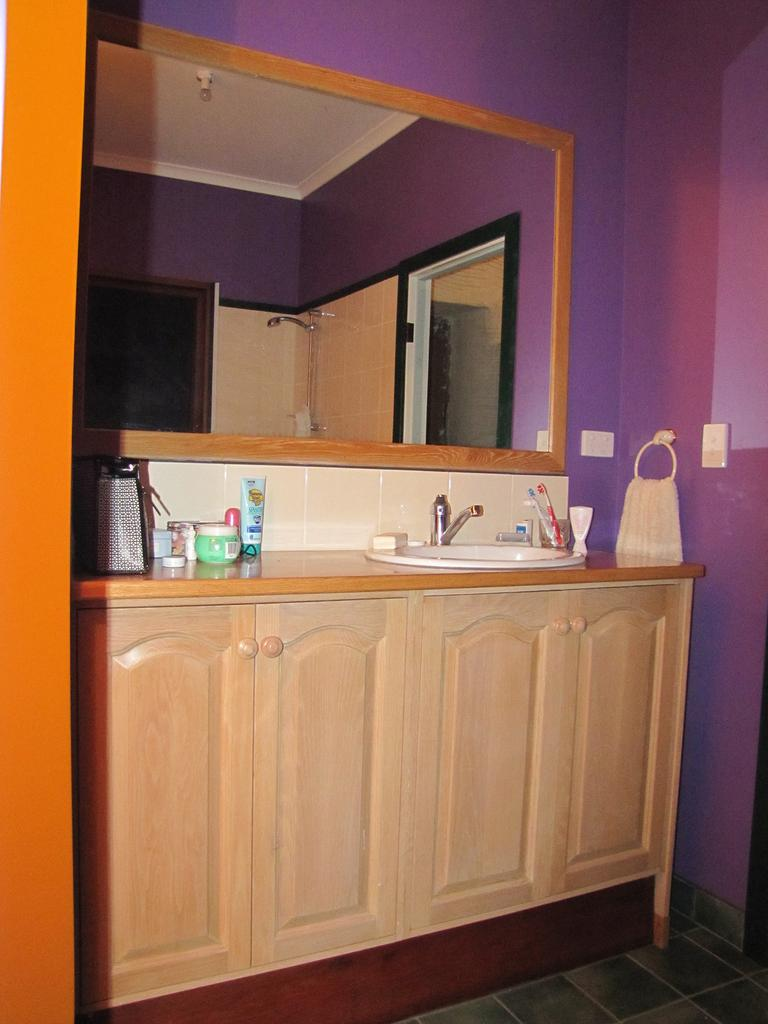cabinet_door: (86, 604, 247, 942), (264, 613, 398, 934), (418, 600, 558, 888), (565, 603, 663, 873)
handle: (257, 622, 286, 676), (569, 594, 591, 648), (232, 627, 258, 667), (555, 600, 571, 653)
